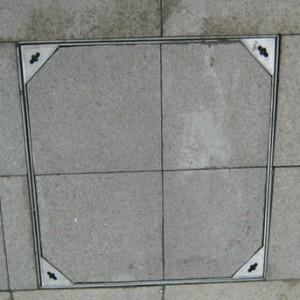wellcover: (9, 25, 291, 300)
